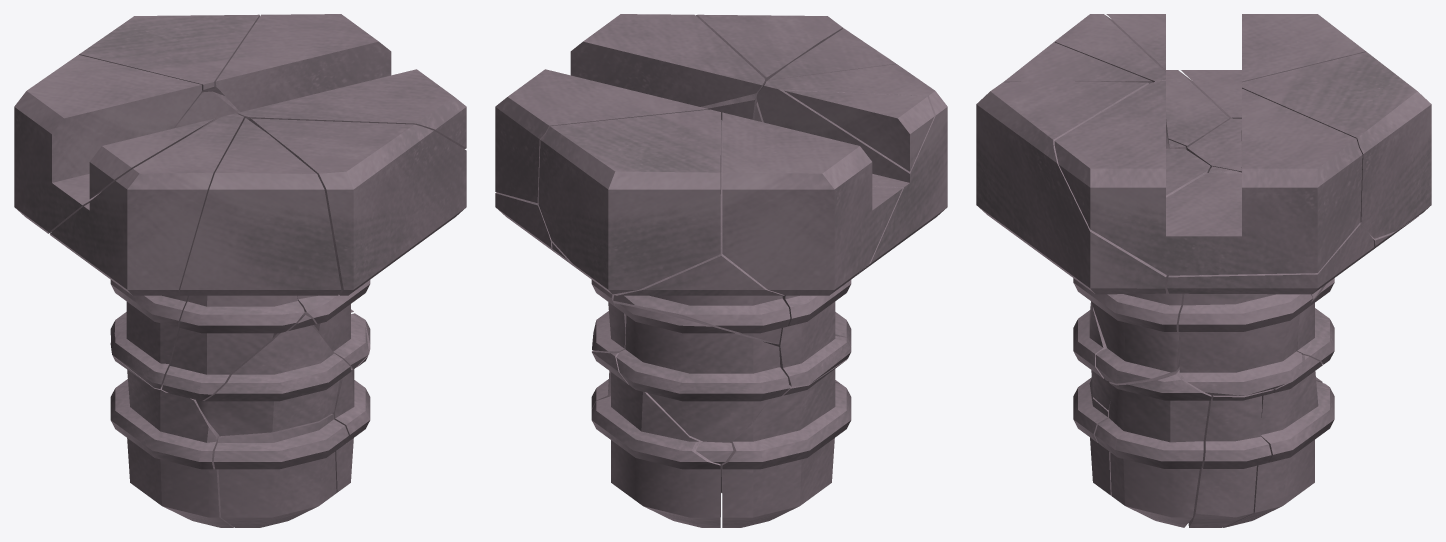
The model's file is Fractured Screw Debris.fbx.
The picture shows the model from 3 angles, left to right: view 1: azimuth 30°, elevation 25°; view 2: azimuth 150°, elevation 25°; view 3: azimuth 270°, elevation 25°; orthographic projection.
Parts seen in each view (by area): view 1: Screw_cell.008, Screw_cell.006, Screw_cell, Screw_cell.004, Screw_cell.002, Screw_cell.005, Screw_cell.010, Screw_cell.001, Screw_cell.012, Screw_cell.015, Screw_cell.007, Screw_cell.003; view 2: Screw_cell.012, Screw_cell.002, Screw_cell.004, Screw_cell, Screw_cell.011, Screw_cell.005, Screw_cell.014, Screw_cell.003, Screw_cell.006, Screw_cell.015, Screw_cell.008, Screw_cell.013; view 3: Screw_cell.004, Screw_cell.006, Screw_cell.012, Screw_cell.013, Screw_cell.007, Screw_cell.014, Screw_cell.009, Screw_cell.002, Screw_cell, Screw_cell.008, Screw_cell.010, Screw_cell.003 (+3 smaller).
Boxes of the visible parts, x1,y1,x2,y2 form: Screw_cell.008: (162, 118, 341, 401); Screw_cell.006: (249, 118, 466, 369); Screw_cell: (50, 113, 244, 388); Screw_cell.004: (216, 14, 466, 148); Screw_cell.002: (14, 54, 201, 233); Screw_cell.005: (110, 355, 233, 527); Screw_cell.010: (213, 413, 348, 527); Screw_cell.001: (196, 314, 351, 436); Screw_cell.012: (79, 14, 259, 95); Screw_cell.015: (89, 118, 215, 198); Screw_cell.007: (332, 313, 370, 492); Screw_cell.003: (173, 91, 239, 135); Screw_cell.012: (538, 109, 720, 294); Screw_cell.002: (722, 112, 902, 295); Screw_cell.004: (495, 14, 764, 203); Screw_cell: (757, 64, 947, 386); Screw_cell.011: (614, 303, 789, 464); Screw_cell.005: (722, 359, 851, 527); Screw_cell.014: (591, 350, 720, 527); Screw_cell.003: (552, 120, 790, 344); Screw_cell.006: (696, 14, 843, 120); Screw_cell.015: (784, 90, 934, 171); Screw_cell.008: (754, 28, 896, 346); Screw_cell.013: (495, 192, 631, 351); Screw_cell.004: (1054, 80, 1362, 275); Screw_cell.006: (976, 81, 1210, 383); Screw_cell.012: (1242, 52, 1431, 238); Screw_cell.013: (1167, 166, 1373, 395); Screw_cell.007: (1094, 367, 1211, 527); Screw_cell.014: (1223, 355, 1334, 527); Screw_cell.009: (1188, 389, 1273, 527); Screw_cell.002: (1181, 14, 1366, 118); Screw_cell: (1054, 14, 1232, 149); Screw_cell.008: (1003, 42, 1186, 149); Screw_cell.010: (1073, 377, 1111, 495); Screw_cell.003: (1187, 118, 1418, 298).
Size of the model in its own units: 43.3 by 49.47 by 50.
